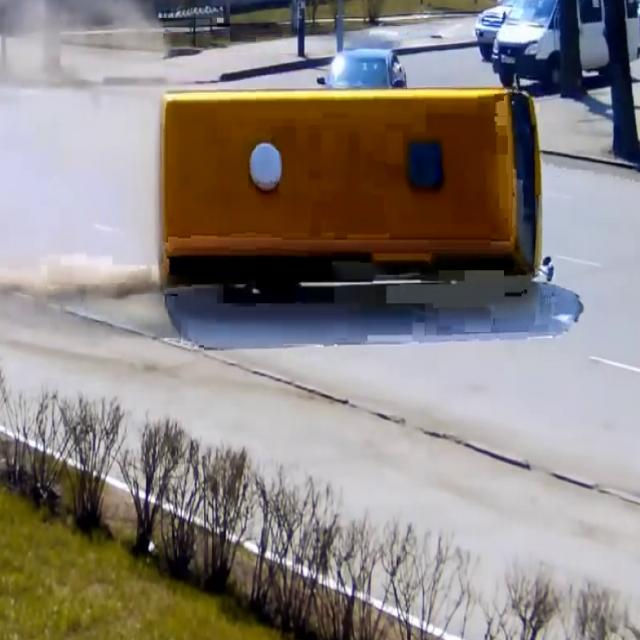accident: (134, 71, 610, 348)
